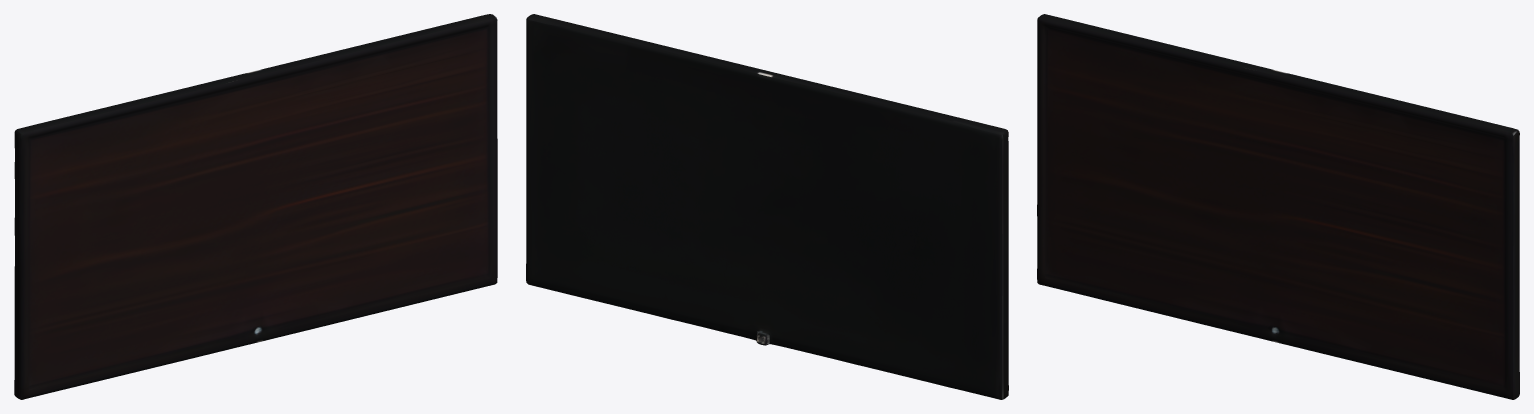
The model's file is TVmurale_3D_textured.glb.
3 renders of one model, left to right at view 1: azimuth 30°, elevation 25°; view 2: azimuth 150°, elevation 25°; view 3: azimuth 330°, elevation 25°, orthographic.
Parts seen in each view (by area): view 1: temp_mesh.ply; view 2: temp_mesh.ply; view 3: temp_mesh.ply.
Part boxes in pixels (x1=…): temp_mesh.ply: x1=14, y1=14, x2=497, y2=399; temp_mesh.ply: x1=526, y1=14, x2=1008, y2=399; temp_mesh.ply: x1=1037, y1=14, x2=1519, y2=399.
Size of the model in its own units: 1.97 by 1.06 by 0.0766.
Materials: 1 (1 with a texture image).
